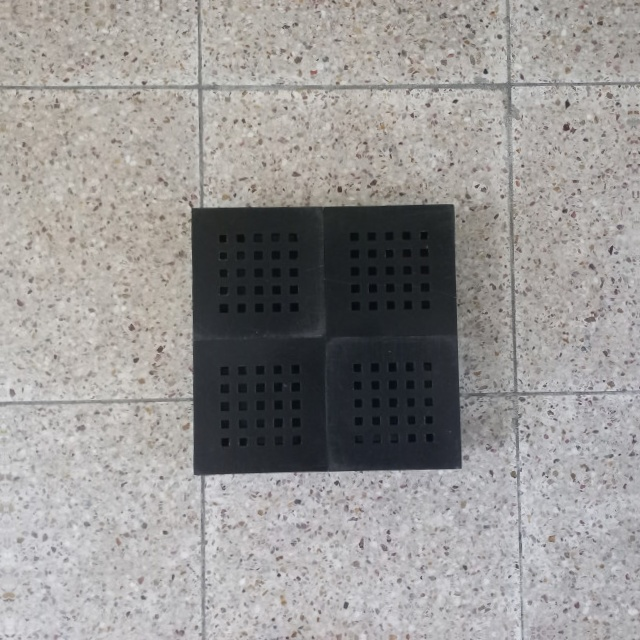pallet: (186, 198, 465, 479)
